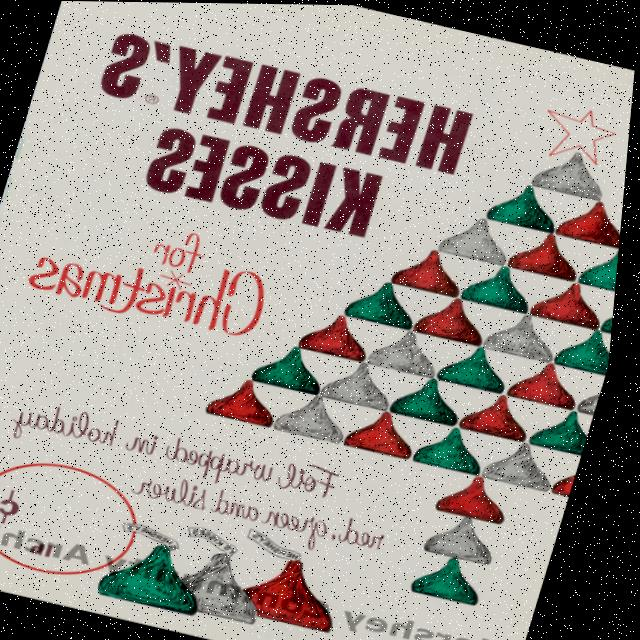kisses: (183, 540, 284, 624), (437, 203, 521, 271), (320, 354, 403, 419), (374, 322, 446, 383), (534, 150, 597, 200)
